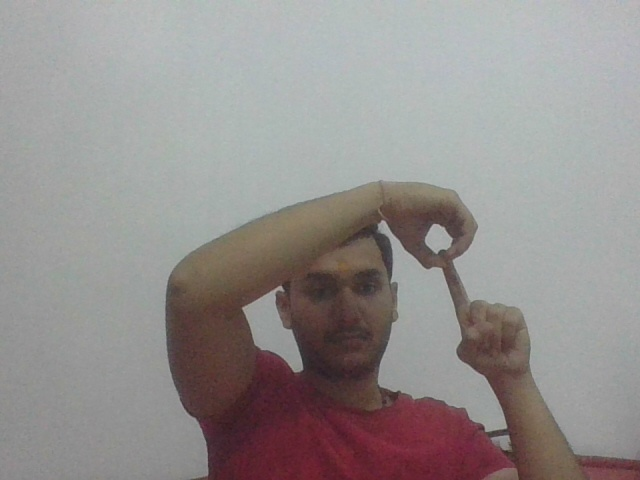Q: (399, 179, 531, 367)
